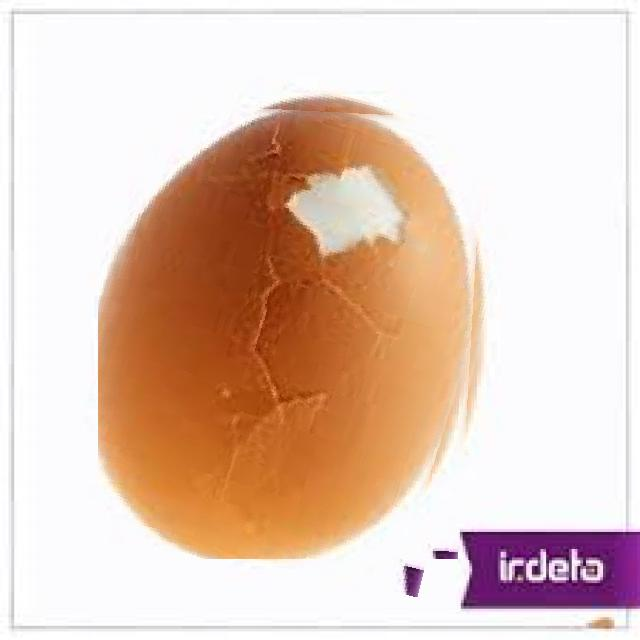biodegradable: (98, 110, 476, 559)
